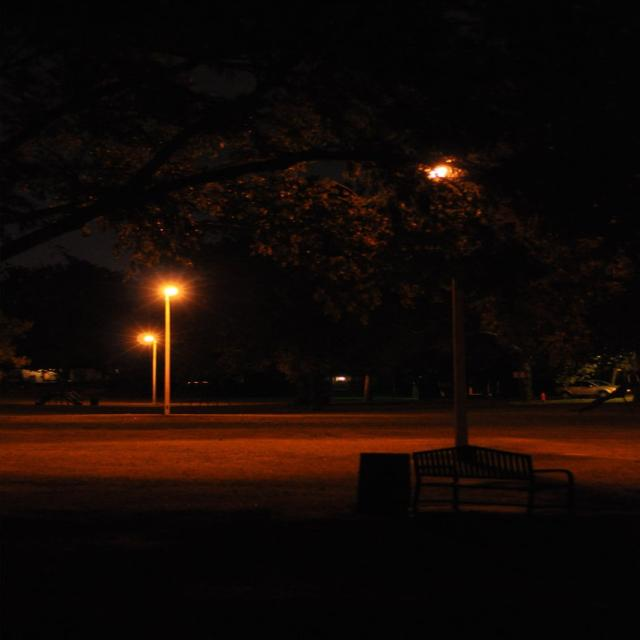car: (569, 353, 633, 415)
chair: (351, 425, 591, 565)
